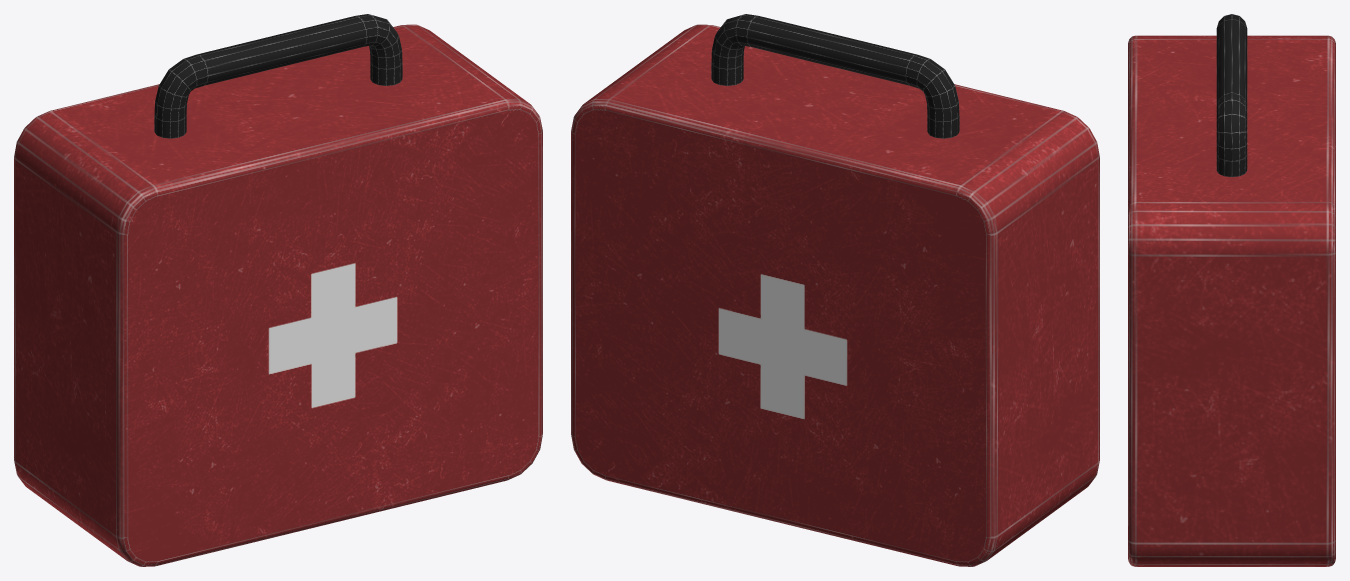
Rendered from MedKit.fbx.
3 views of the same model, side by side, from view 1: azimuth 30°, elevation 25°; view 2: azimuth 150°, elevation 25°; view 3: azimuth 270°, elevation 25° (orthographic). The views are drawn at different scales.
Visible parts, largest first — view 1: Medkit; view 2: Medkit; view 3: Medkit.
Boxes of the visible parts, x1,y1,x2,y2 form: Medkit: (14, 14, 542, 566); Medkit: (571, 14, 1099, 566); Medkit: (1128, 14, 1335, 566).
Size of the model in its own units: 3.35 by 3.39 by 1.5.
